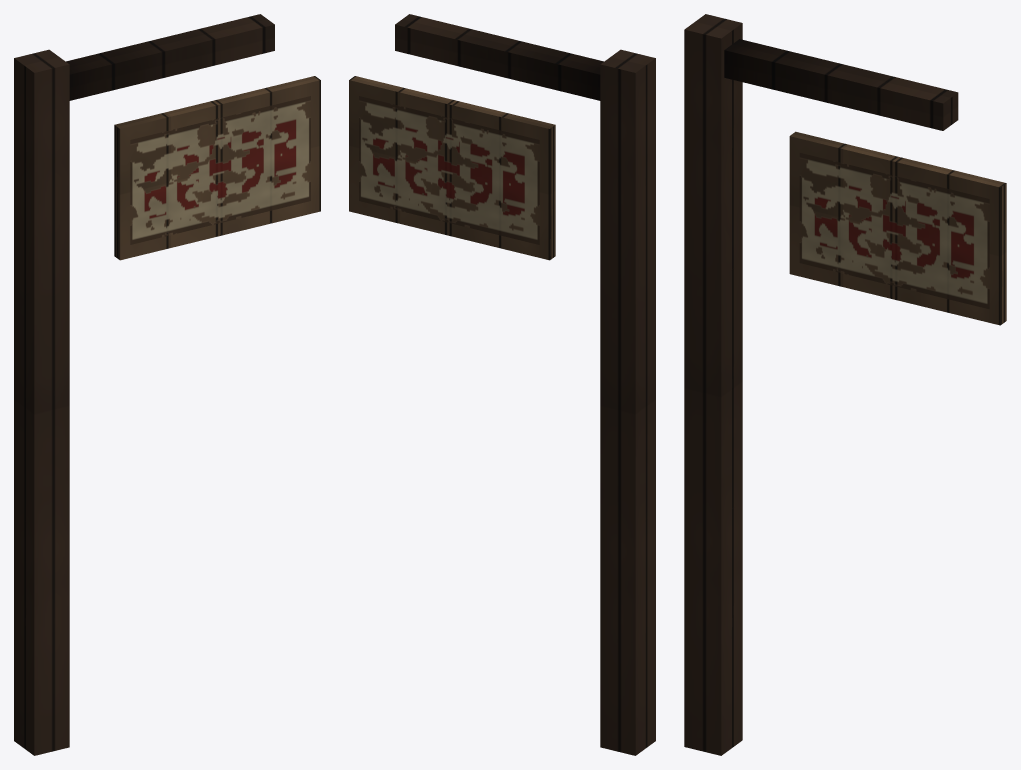
Rendered from hanging_sign.glb.
3 renders of one model, left to right at view 1: azimuth 30°, elevation 25°; view 2: azimuth 150°, elevation 25°; view 3: azimuth 330°, elevation 25°, orthographic. The views are drawn at different scales.
Parts seen in each view (by area): view 1: hanging_sign, hanging_sign_board; view 2: hanging_sign, hanging_sign_board; view 3: hanging_sign, hanging_sign_board.
Part boxes in pixels (x1,y1,x2,y2): hanging_sign: (14,14,274,755); hanging_sign_board: (114,76,320,260); hanging_sign: (395,14,655,755); hanging_sign_board: (349,76,555,260); hanging_sign: (684,14,958,755); hanging_sign_board: (789,131,1006,325).
Bounding box in the file's own units: 1.17 × 2.6 × 0.14.
Materials: 3 (3 with a texture image).
